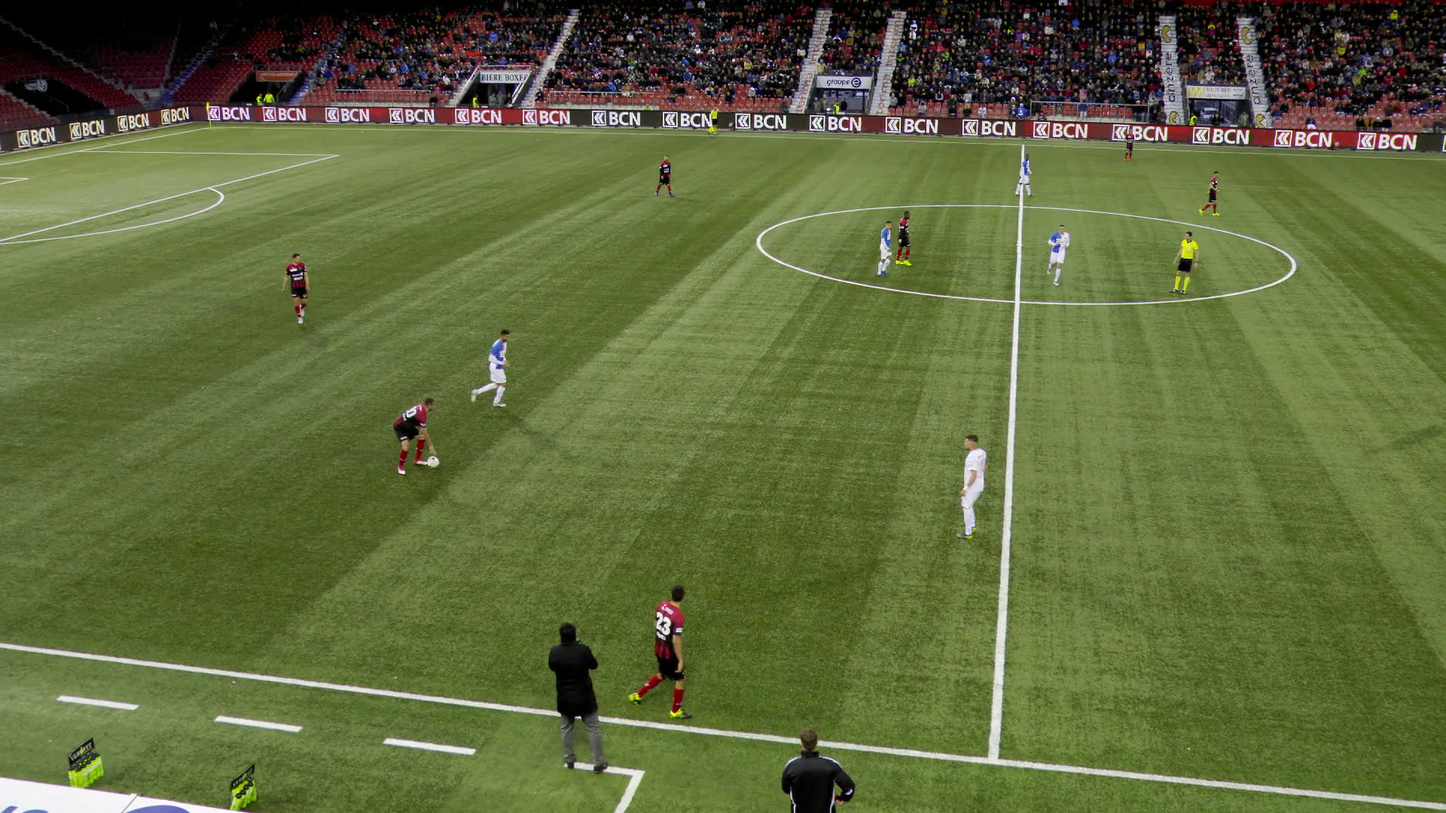ball: (427, 455, 440, 467)
player: (631, 583, 691, 718), (950, 434, 988, 540), (394, 398, 439, 474), (473, 330, 514, 410), (282, 252, 310, 324), (1046, 224, 1071, 285), (890, 210, 917, 266), (871, 220, 893, 279), (1012, 154, 1036, 197), (1199, 170, 1221, 215), (654, 154, 673, 197), (1123, 129, 1135, 161)
referee: (1168, 231, 1199, 295), (707, 106, 718, 135)
